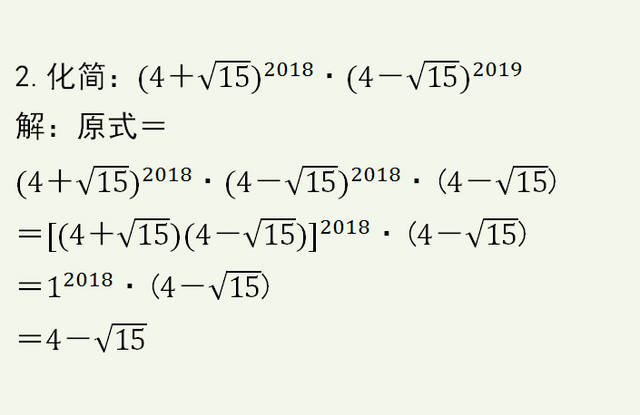sqrt: (412, 54, 463, 93), (117, 211, 168, 250), (202, 54, 251, 93), (102, 317, 152, 355), (470, 213, 521, 250), (502, 160, 549, 199), (251, 213, 298, 251), (84, 160, 128, 199), (219, 266, 261, 302), (291, 163, 334, 196)
